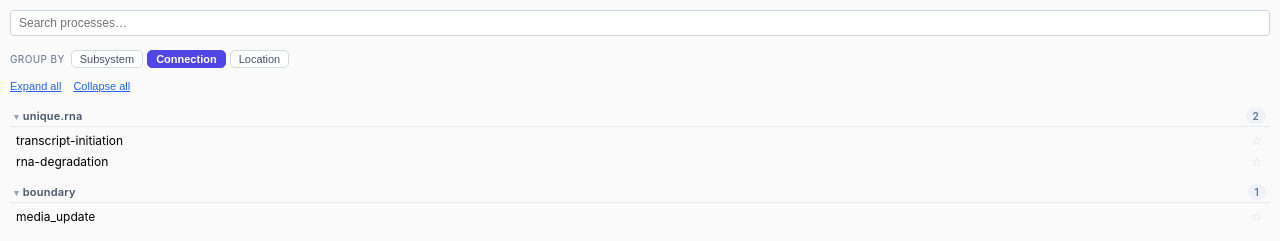
Scenario: ProcessRail › reports when nothing matches
Type "zzzz" into the field with placeholder "Search processes…" at (640, 23), box [10,10,1270,36]
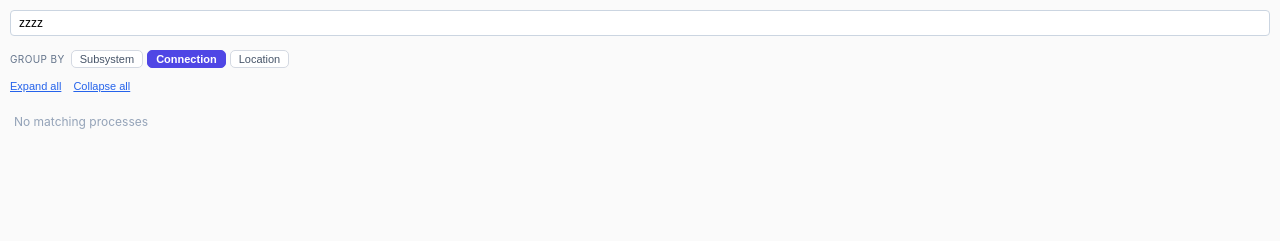
Expected: the text "No matching processes" is shown, [14,114,148,129]
